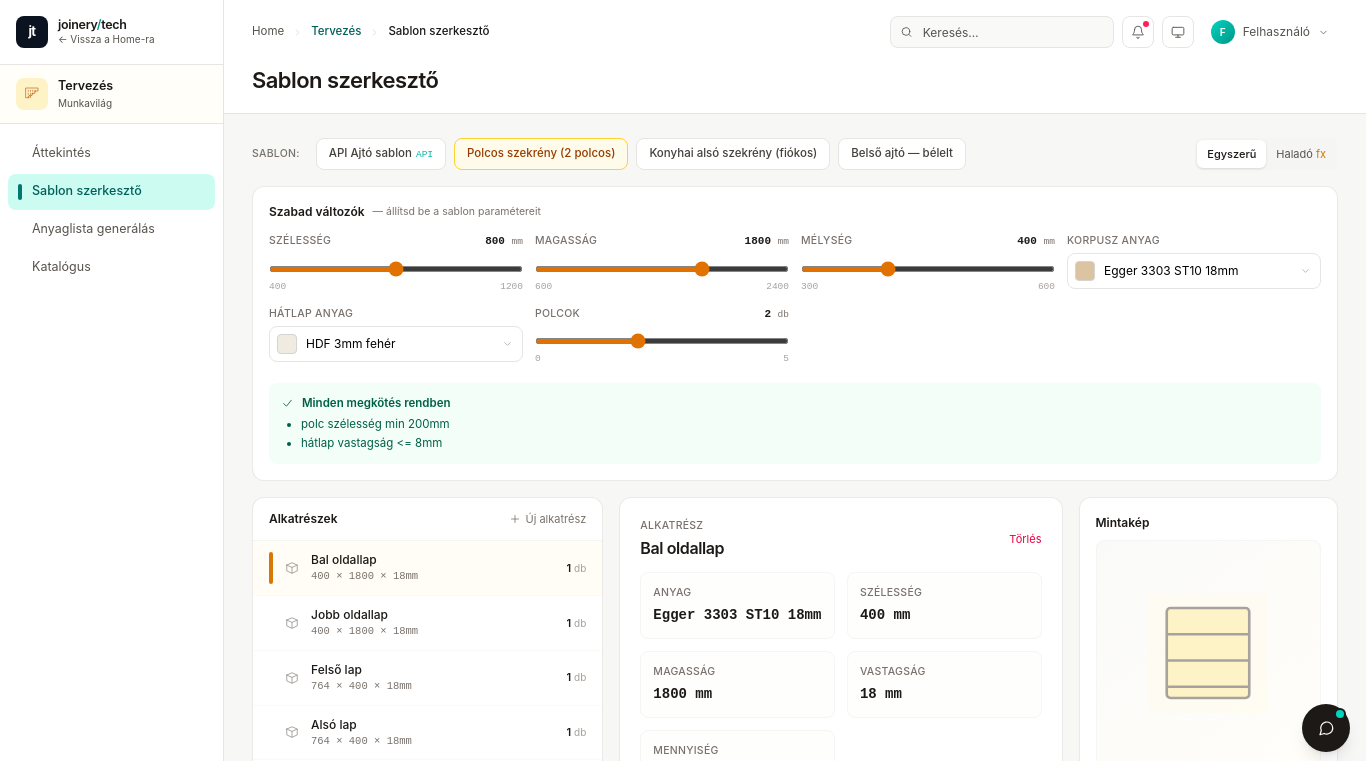
Test: DesignPage › ApiParamWizard shows error state when detail fails
Click the button "API Ajtó sablon" at x=381, y=154, box [316,138,446,170]
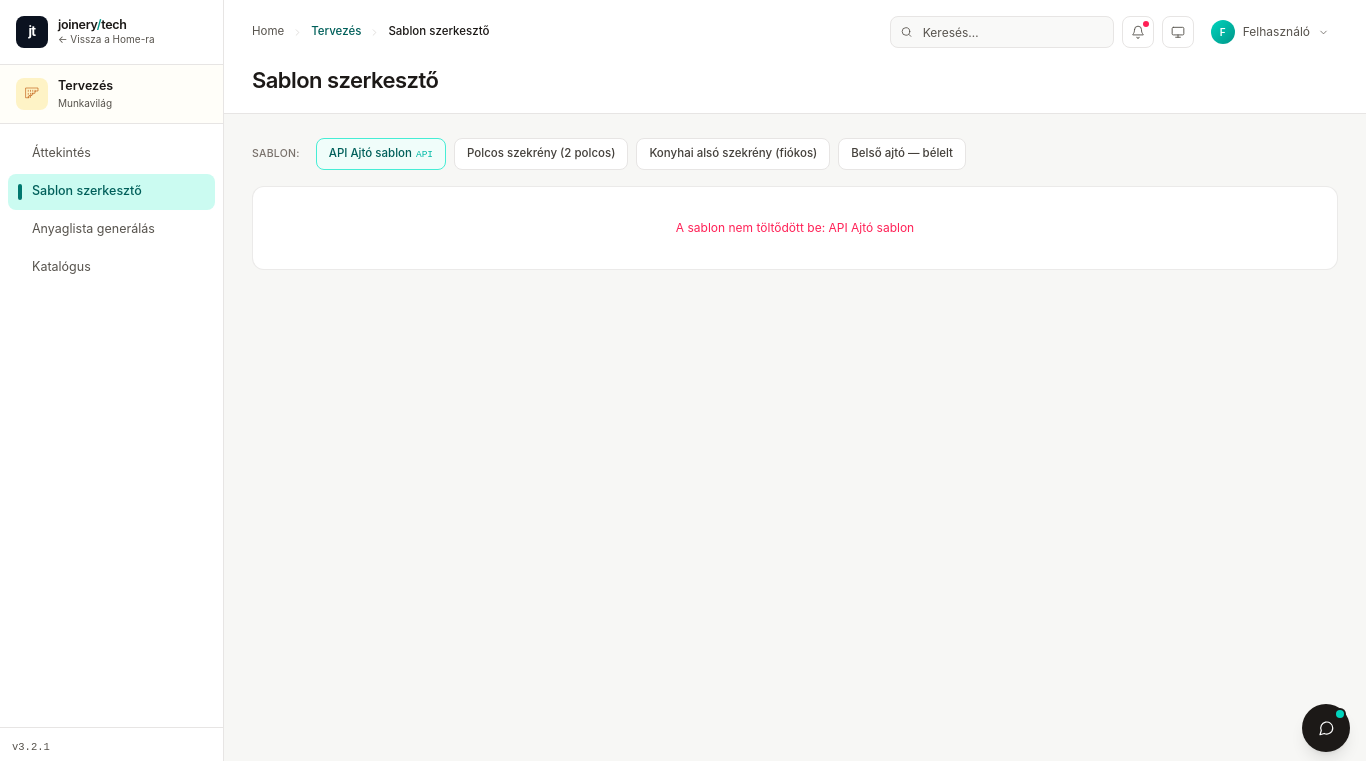
Expected: the text "A sablon nem töltődött be: API Ajtó sablon" is shown, [252,186,1338,270]
